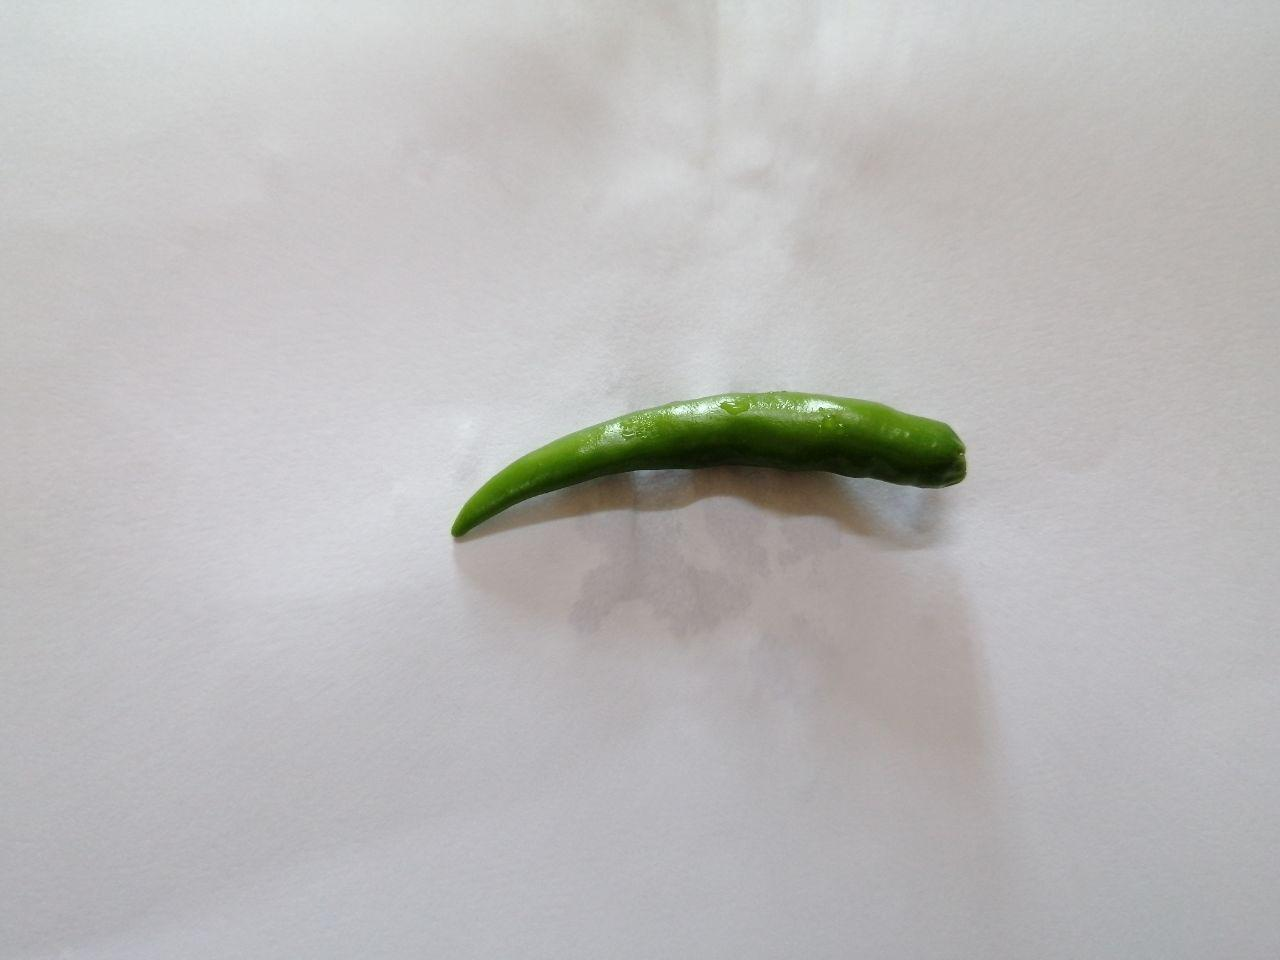lada hijau: (427, 371, 996, 572)
